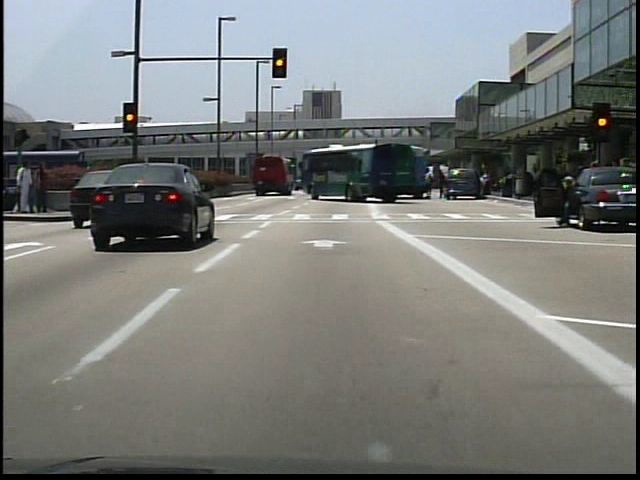person: (553, 171, 583, 230), (16, 161, 37, 215), (33, 162, 51, 220), (419, 167, 433, 201), (477, 169, 489, 200)
